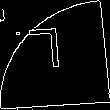L_S: (36, 28, 74, 82)
